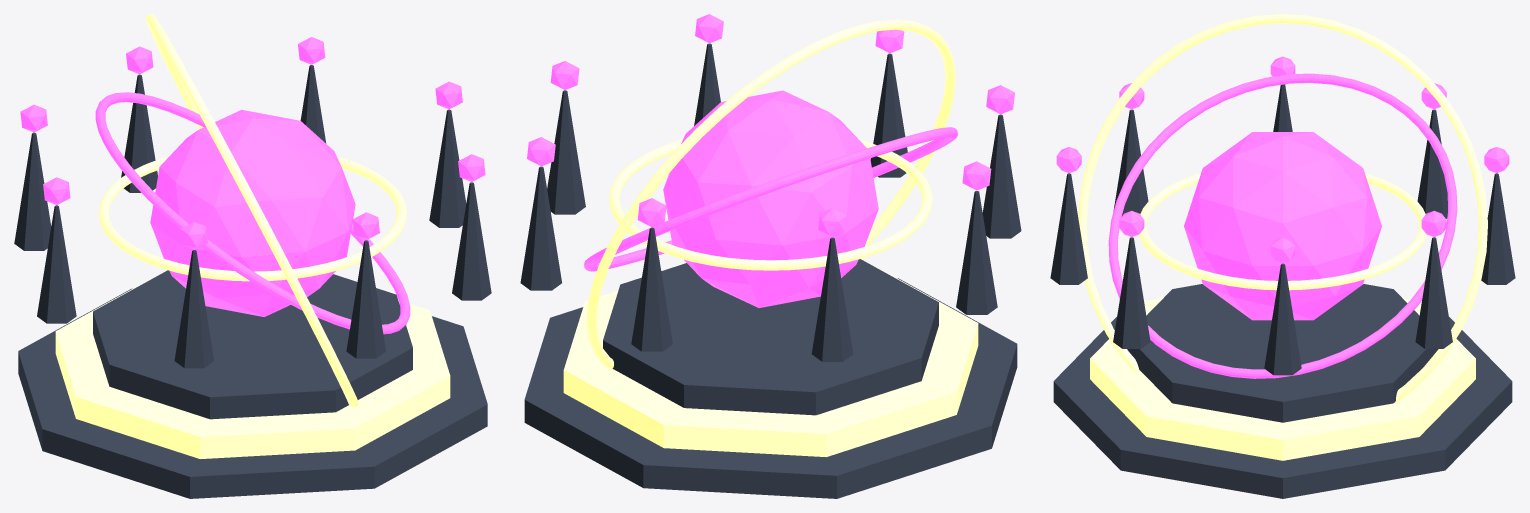
Rendered from gpu-blender-v41.glb.
3 renders of one model, left to right at view 1: azimuth 30°, elevation 25°; view 2: azimuth 150°, elevation 25°; view 3: azimuth 270°, elevation 25°, orthographic. The views are drawn at different scales.
Parts seen in each view (by area): view 1: Cylinder.002, SovereignCore_zothos-lite, Cylinder, Cylinder.001, Torus.001, Torus.002, Torus, Cone.005, Cone.007, Cone.004, Cone.006, Cone (+11 smaller); view 2: Cylinder.002, SovereignCore_zothos-lite, Cylinder, Cylinder.001, Torus.002, Torus.001, Torus, Cone.001, Cone.003, Cone.002, Cone.004, Cone (+11 smaller); view 3: SovereignCore_zothos-lite, Cylinder.002, Cylinder, Cylinder.001, Torus.002, Torus.001, Torus, Cone, Cone.001, Cone.007, Cone.006, Cone.002 (+8 smaller).
Boxes of the visible parts, x1,y1,x2,y2 form: Cylinder.002: [93, 270, 412, 419]; SovereignCore_zothos-lite: [150, 109, 355, 316]; Cylinder: [18, 288, 487, 498]; Cylinder.001: [55, 278, 450, 458]; Torus.001: [95, 92, 410, 334]; Torus.002: [145, 14, 358, 407]; Torus: [99, 156, 406, 281]; Cone.005: [174, 250, 214, 368]; Cone.007: [452, 182, 491, 300]; Cone.004: [37, 205, 76, 323]; Cone.006: [346, 240, 385, 358]; Cone: [429, 109, 466, 227]; Cylinder.002: [603, 259, 938, 415]; SovereignCore_zothos-lite: [663, 90, 878, 307]; Cylinder: [524, 278, 1017, 498]; Cylinder.001: [563, 268, 978, 457]; Torus.002: [586, 19, 955, 369]; Torus.001: [584, 127, 957, 271]; Torus: [609, 139, 932, 270]; Cone.001: [520, 166, 561, 290]; Cone.003: [811, 237, 853, 361]; Cone.002: [631, 227, 672, 351]; Cone.004: [956, 191, 997, 314]; Cone: [547, 90, 585, 214]; SovereignCore_zothos-lite: [1184, 132, 1381, 320]; Cylinder.002: [1127, 284, 1438, 422]; Cylinder: [1053, 317, 1512, 498]; Cylinder.001: [1090, 298, 1475, 460]; Torus.002: [1078, 14, 1487, 402]; Torus.001: [1108, 73, 1457, 378]; Torus: [1139, 173, 1426, 290]; Cone: [1264, 263, 1301, 375]; Cone.001: [1415, 237, 1452, 348]; Cone.007: [1113, 237, 1150, 348]; Cone.006: [1050, 173, 1087, 284]; Cone.002: [1481, 173, 1515, 284].
Bounding box in the file's own units: 4.41 × 3.72 × 4.46.
